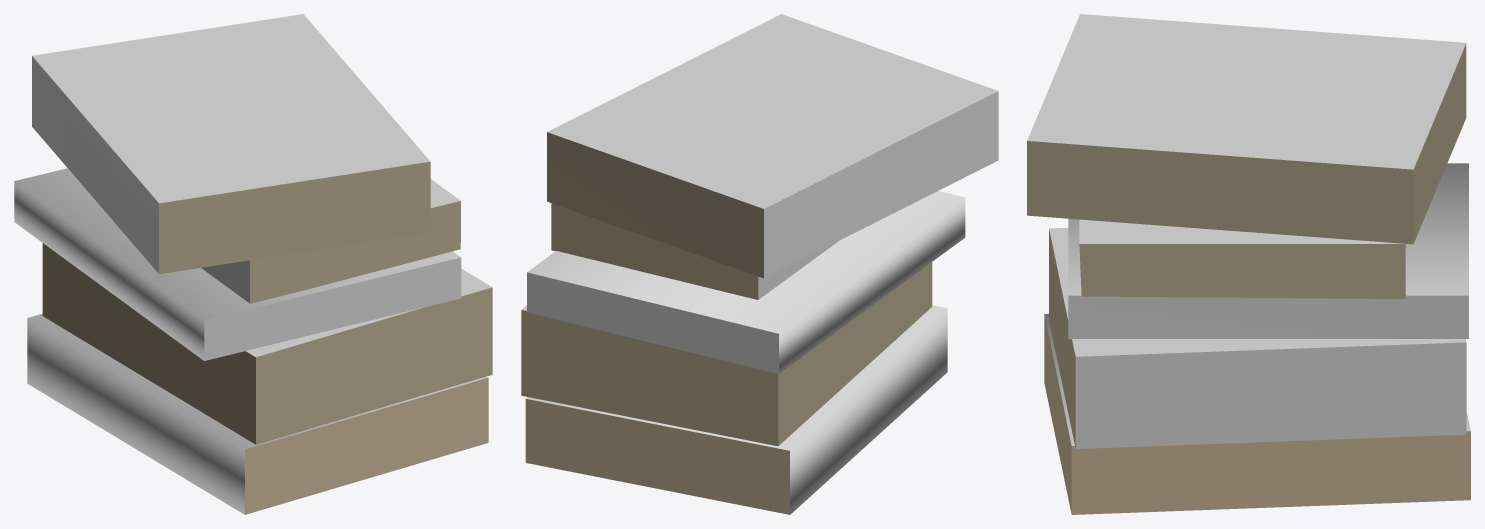
Rendered from SM_H_Government_Tide_Book_02F_ATLAS.fbx.
3 views of the same model, side by side, from view 1: azimuth 30°, elevation 25°; view 2: azimuth 150°, elevation 25°; view 3: azimuth 270°, elevation 25° (orthographic). The views are drawn at different scales.
Visible parts, largest first — view 1: SM_H_Government_Tide_Book_02F_ATLAS; view 2: SM_H_Government_Tide_Book_02F_ATLAS; view 3: SM_H_Government_Tide_Book_02F_ATLAS.
Boxes of the visible parts, x1,y1,x2,y2 form: SM_H_Government_Tide_Book_02F_ATLAS: [14, 14, 492, 514]; SM_H_Government_Tide_Book_02F_ATLAS: [521, 14, 998, 514]; SM_H_Government_Tide_Book_02F_ATLAS: [1027, 14, 1470, 514].
Bounding box in the file's own units: 35.73 × 39.27 × 32.56.
